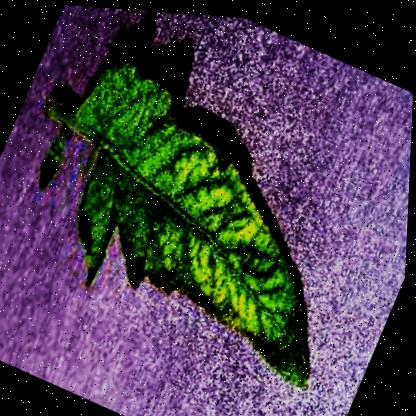Virus: (0, 0, 415, 412)
